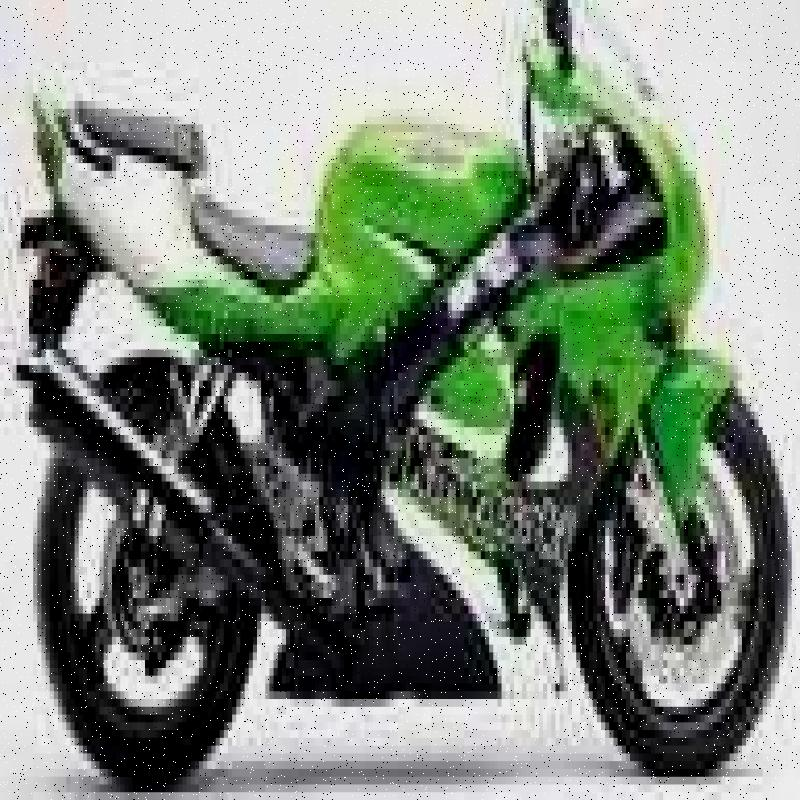bike: (15, 20, 786, 800)
